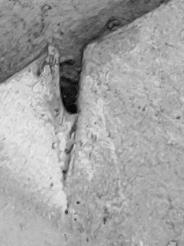crack: (1, 1, 184, 246)
